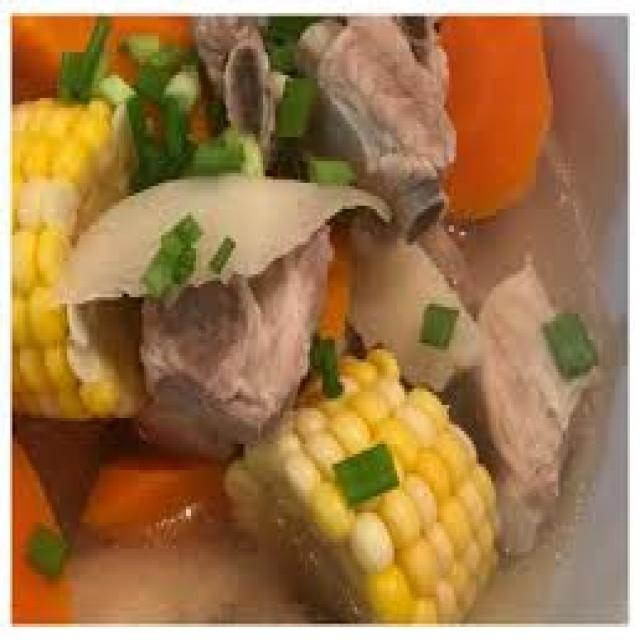food_waste: (12, 16, 593, 620)
